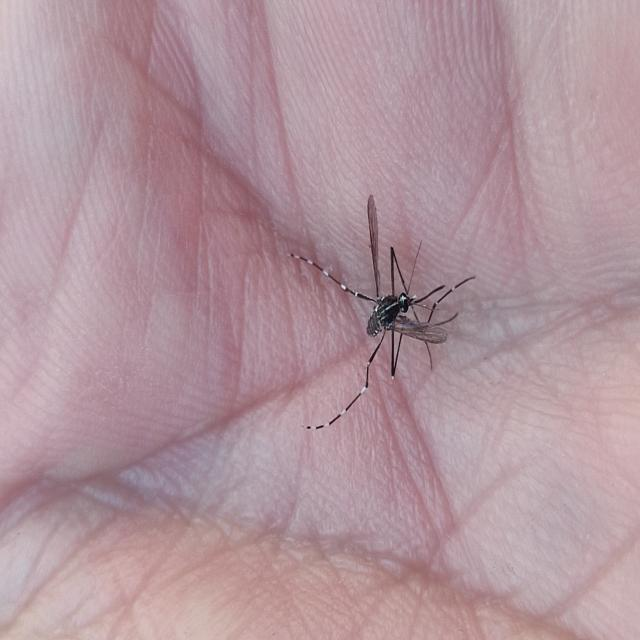albopictus: (290, 180, 473, 449)
